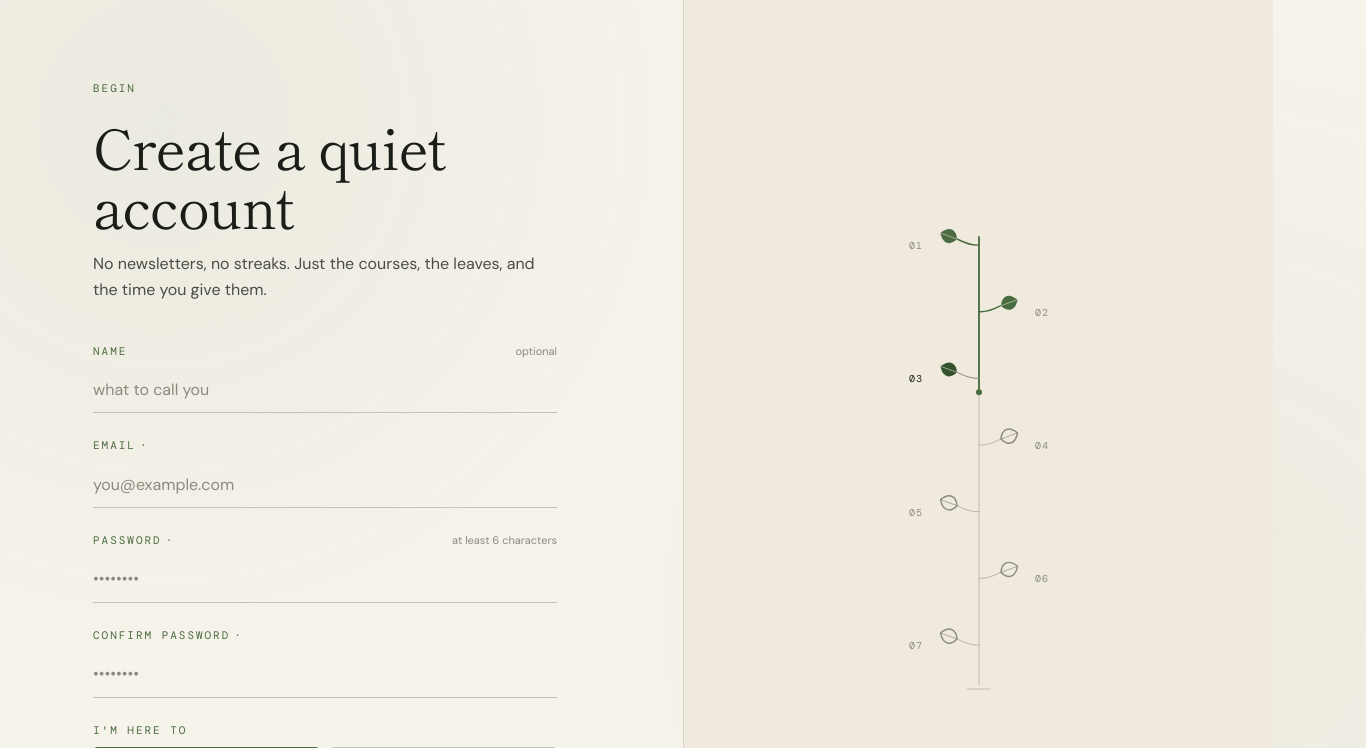
Test: Register › shows email-already-registered error on 409 response
In the field labelled "Email·": (325, 485) x1=93 y1=462 x2=557 y2=508, type "dup@test.com"
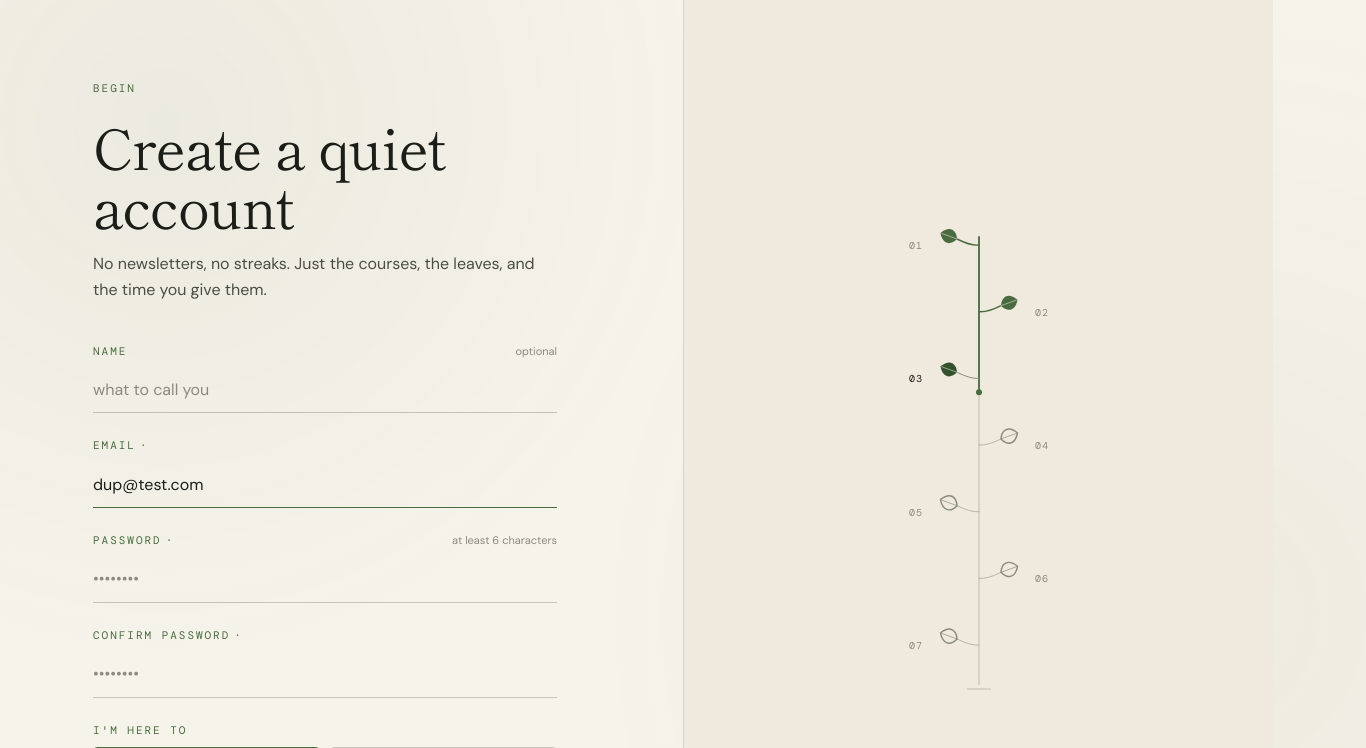
In the password field labelled "Password· at least 6 characters": (325, 580) x1=93 y1=557 x2=557 y2=603, type "secret"
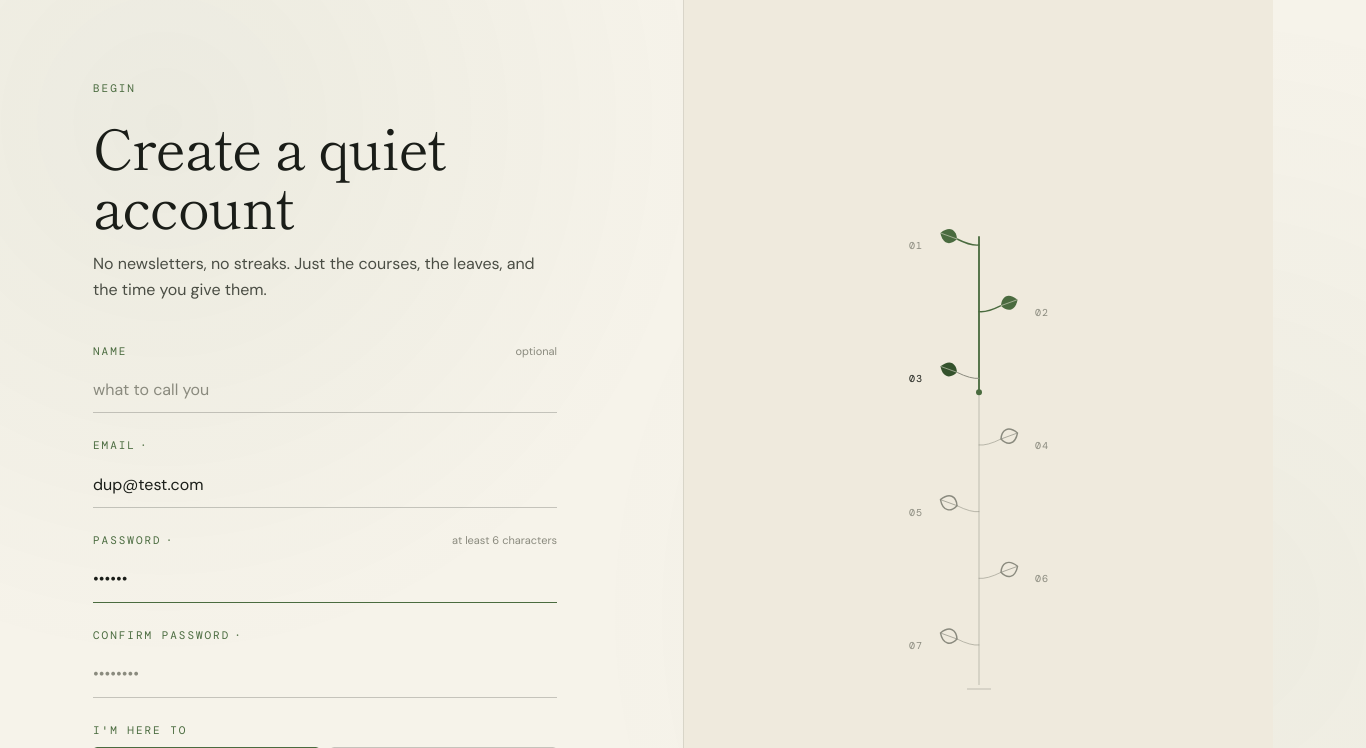
In the password field labelled "Confirm password·": (325, 675) x1=93 y1=652 x2=557 y2=698, type "secret"
(page scrolled)
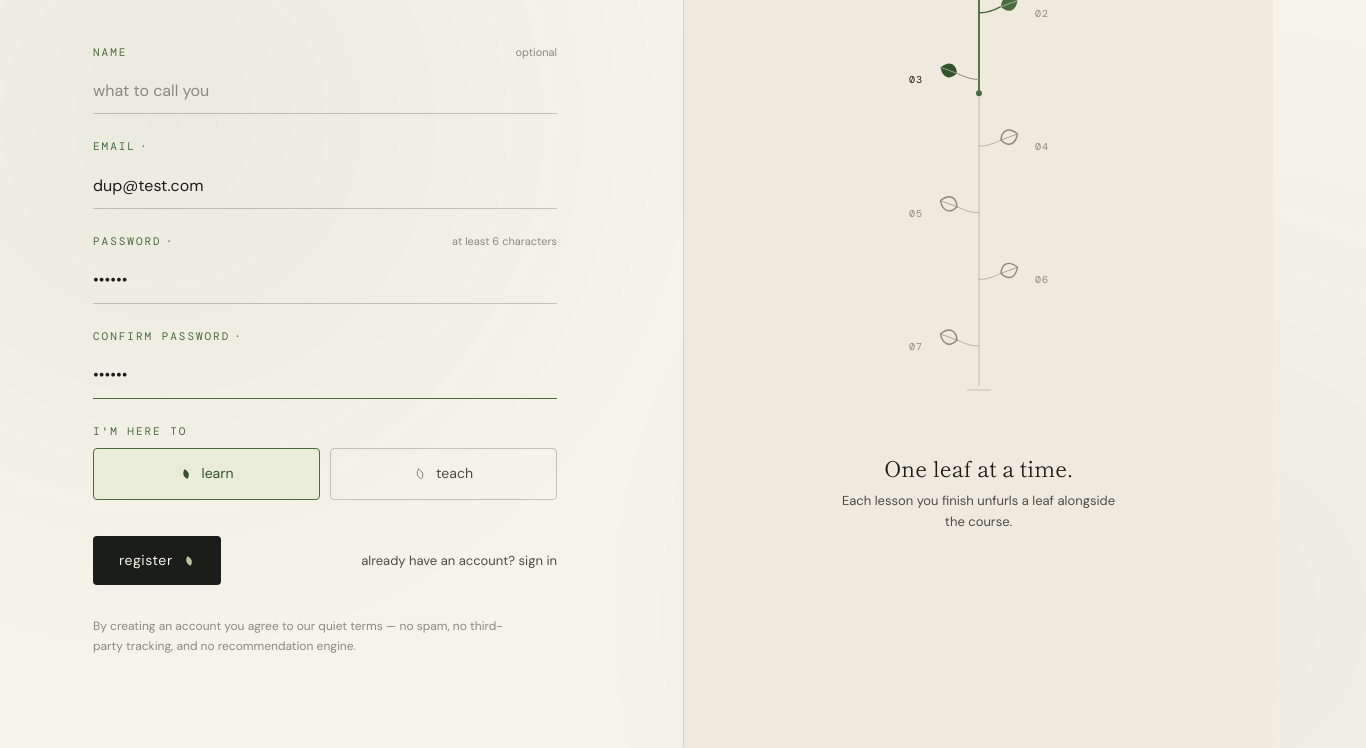
Click the button "register": (157, 561) x1=93 y1=536 x2=221 y2=586
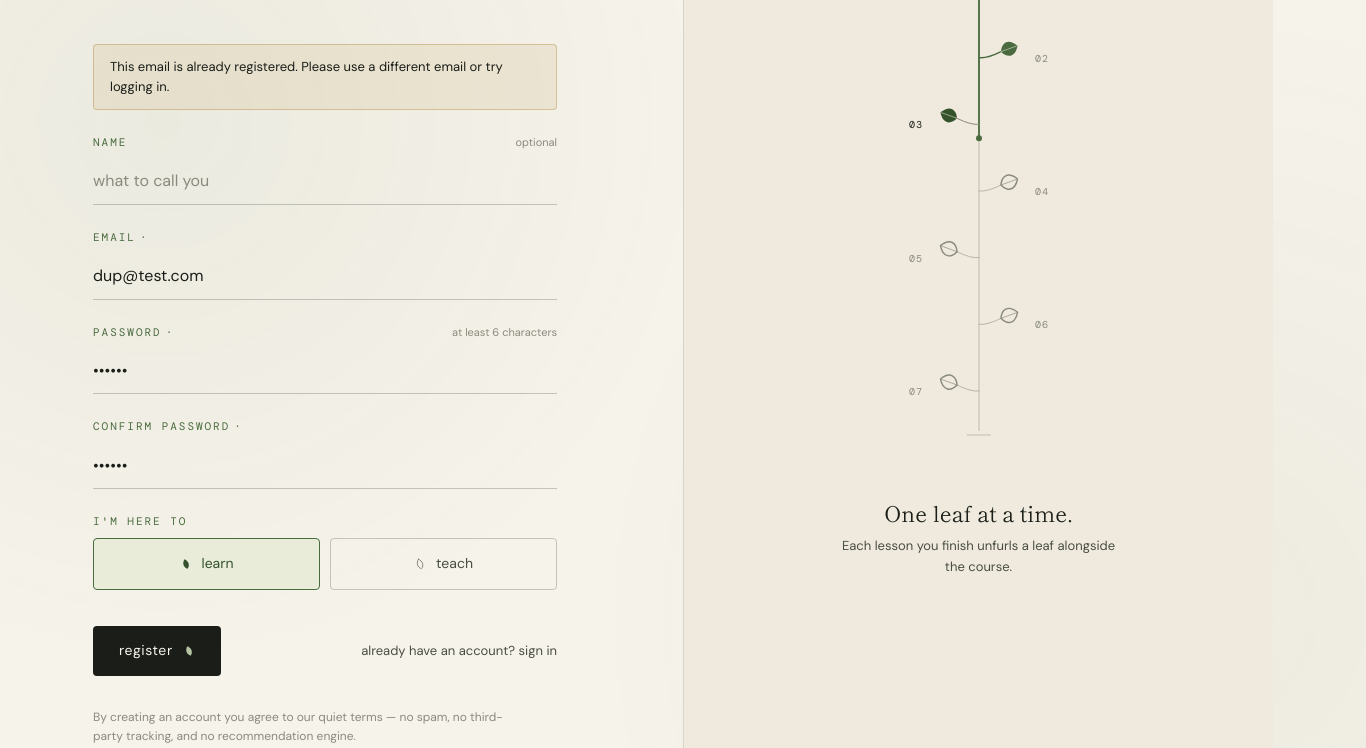
Expected: the message shows "already registered", x1=110 y1=58 x2=503 y2=95
